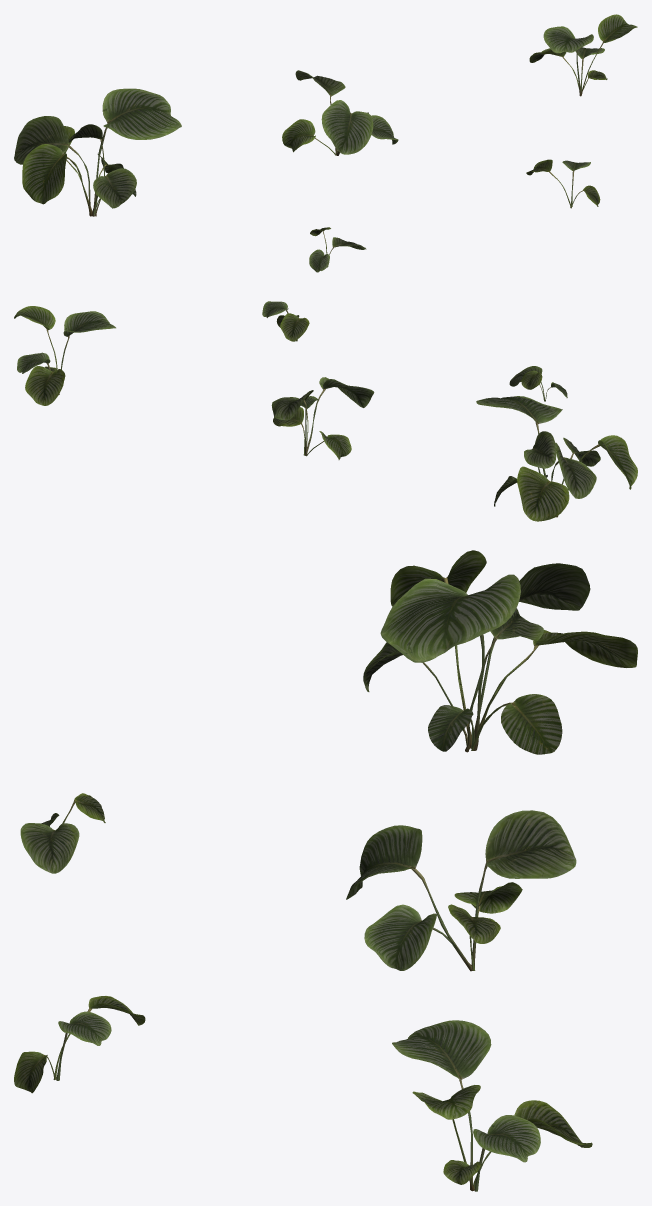
File: calathea_orbifolia_01-detail-lod.glb
3 views of the same model, one above another, from view 1: azimuth 30°, elevation 25°; view 2: azimuth 150°, elevation 25°; view 3: azimuth 270°, elevation 25° (orthographic). The views are drawn at different scales.
Visible parts, largest first — view 1: calathea_orbifolia_01_a, calathea_orbifolia_01_b, calathea_orbifolia_01_c, calathea_orbifolia_01_e, calathea_orbifolia_01_d; view 2: calathea_orbifolia_01_a, calathea_orbifolia_01_c, calathea_orbifolia_01_b, calathea_orbifolia_01_e, calathea_orbifolia_01_d; view 3: calathea_orbifolia_01_a, calathea_orbifolia_01_b, calathea_orbifolia_01_c, calathea_orbifolia_01_e, calathea_orbifolia_01_d.
Boxes of the visible parts, left/top/right/bottom form: calathea_orbifolia_01_a: left=14, top=88, right=181, bottom=216; calathea_orbifolia_01_b: left=282, top=70, right=398, bottom=155; calathea_orbifolia_01_c: left=529, top=14, right=637, bottom=96; calathea_orbifolia_01_e: left=526, top=159, right=600, bottom=208; calathea_orbifolia_01_d: left=309, top=227, right=366, bottom=272; calathea_orbifolia_01_a: left=476, top=396, right=637, bottom=521; calathea_orbifolia_01_c: left=14, top=306, right=115, bottom=405; calathea_orbifolia_01_b: left=271, top=377, right=374, bottom=459; calathea_orbifolia_01_e: left=262, top=301, right=309, bottom=341; calathea_orbifolia_01_d: left=509, top=366, right=567, bottom=401; calathea_orbifolia_01_a: left=363, top=550, right=637, bottom=754; calathea_orbifolia_01_b: left=346, top=810, right=576, bottom=971; calathea_orbifolia_01_c: left=392, top=1020, right=592, bottom=1191; calathea_orbifolia_01_e: left=14, top=996, right=145, bottom=1093; calathea_orbifolia_01_d: left=20, top=793, right=105, bottom=873.
Bounding box in the file's own units: 2.49 × 0.4243 × 1.19.
Materials: 1 (1 with a texture image).
